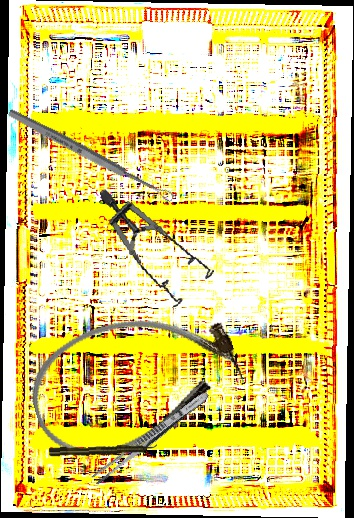Cannula: (16, 290, 254, 473)
Dressing Forceps: (90, 387, 212, 488)
Handpiece: (48, 443, 158, 457)
Speculum: (99, 171, 220, 318)
Surgical Spoon: (6, 106, 176, 205)
